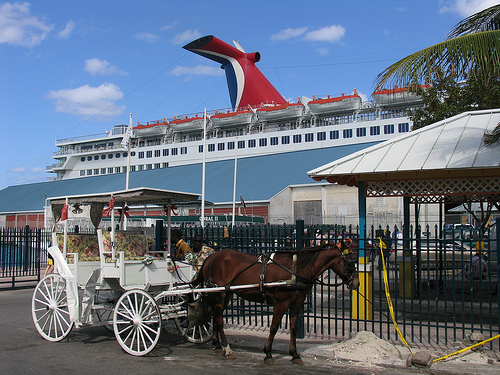horse: (186, 236, 362, 365)
